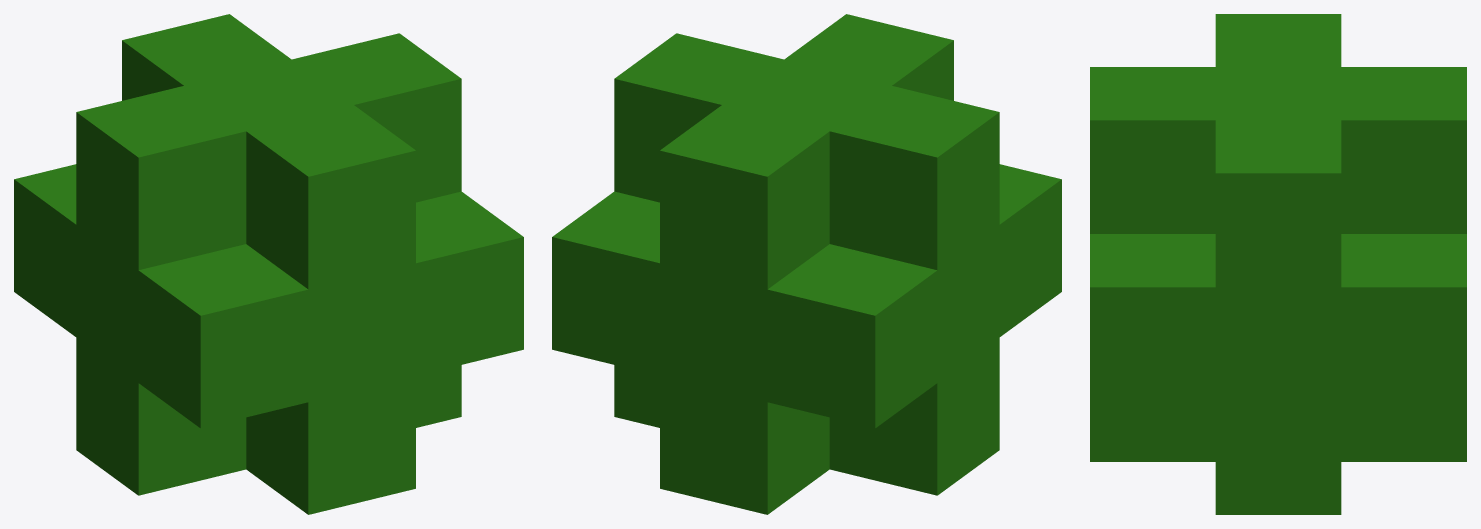
File: Cross.fbx
3 renders of one model, left to right at view 1: azimuth 30°, elevation 25°; view 2: azimuth 150°, elevation 25°; view 3: azimuth 270°, elevation 25°, orthographic.
Parts seen in each view (by area): view 1: Cross; view 2: Cross; view 3: Cross.
Part boxes in pixels (left/top/right/bottom): Cross: left=14, top=14, right=523, bottom=514; Cross: left=552, top=14, right=1061, bottom=514; Cross: left=1090, top=14, right=1466, bottom=514.
Bounding box in the file's own units: 117 × 117 × 117.
